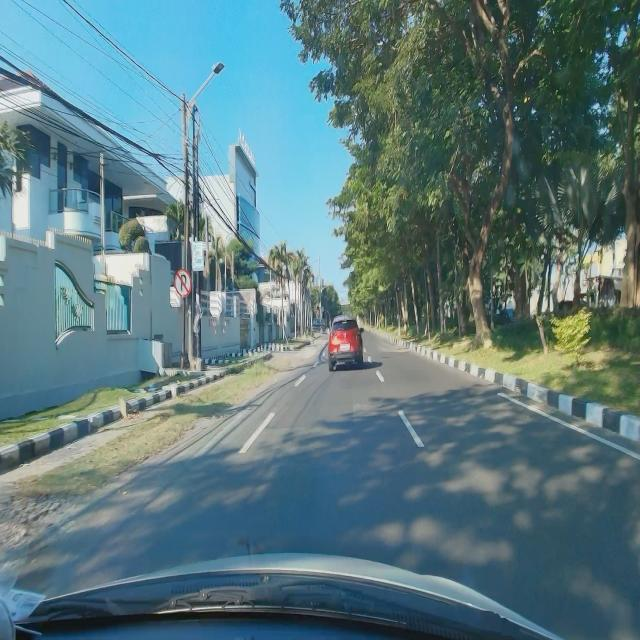car: (328, 313, 364, 374)
